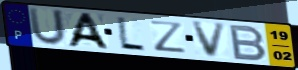A: (64, 12, 113, 51)
B: (229, 24, 269, 62)
L: (115, 15, 148, 53)
U: (27, 6, 68, 47)
V: (190, 21, 229, 59)
Z: (147, 19, 188, 55)
